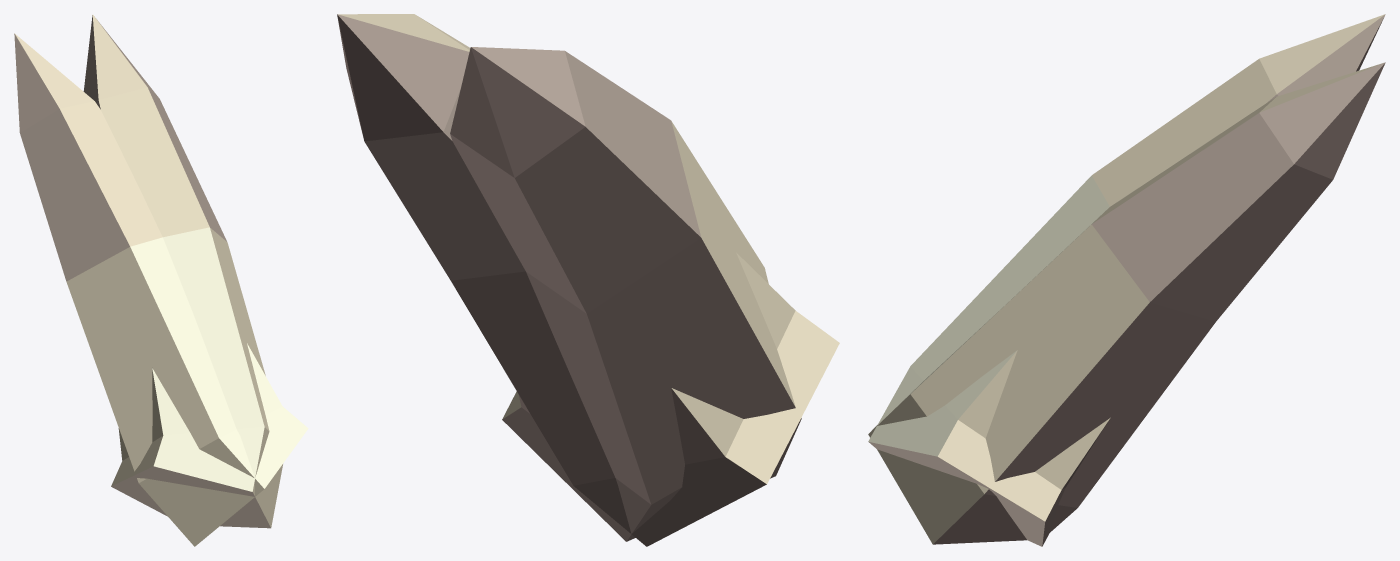
Rendered from horns_dragon_short.glb.
The picture shows the model from 3 angles, left to right: view 1: azimuth 30°, elevation 25°; view 2: azimuth 150°, elevation 25°; view 3: azimuth 270°, elevation 25°; orthographic projection. The views are drawn at different scales.
Parts seen in each view (by area): view 1: Horn_R, Horn_L; view 2: Horn_R, Horn_L; view 3: Horn_L, Horn_R.
Part boxes in pixels (box(x1,y1,x2,y2)): Horn_R: box(14, 33, 308, 546); Horn_L: box(83, 14, 282, 528); Horn_R: box(450, 47, 801, 541); Horn_L: box(337, 14, 839, 546); Horn_L: box(868, 62, 1385, 544); Horn_R: box(868, 14, 1385, 546).
Bounding box in the file's own units: 0.0299 × 0.0709 × 0.0659.
Materials: 1 (1 with a texture image).
